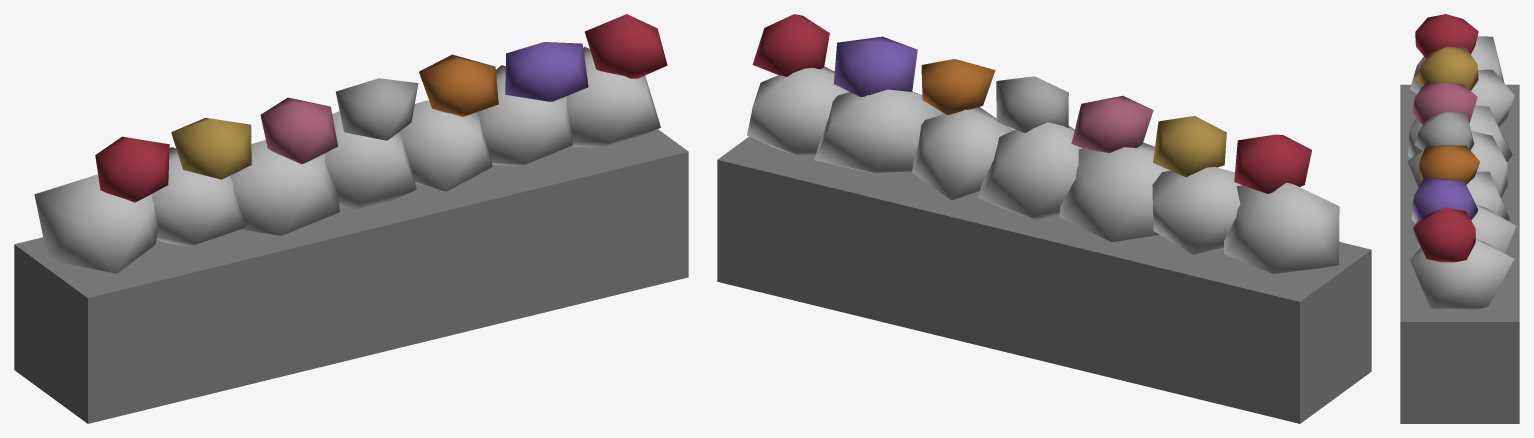
The model's file is flower_box.glb.
3 views of the same model, side by side, from view 1: azimuth 30°, elevation 25°; view 2: azimuth 150°, elevation 25°; view 3: azimuth 270°, elevation 25° (orthographic). The views are drawn at different scales.
Parts seen in each view (by area): view 1: flower_box; view 2: flower_box; view 3: flower_box.
Boxes of the visible parts, bbox=[...] form: flower_box: bbox=[14, 14, 688, 423]; flower_box: bbox=[717, 14, 1371, 423]; flower_box: bbox=[1400, 14, 1519, 423].
Bounding box in the file's own units: 1.61 × 0.6387 × 0.34.
